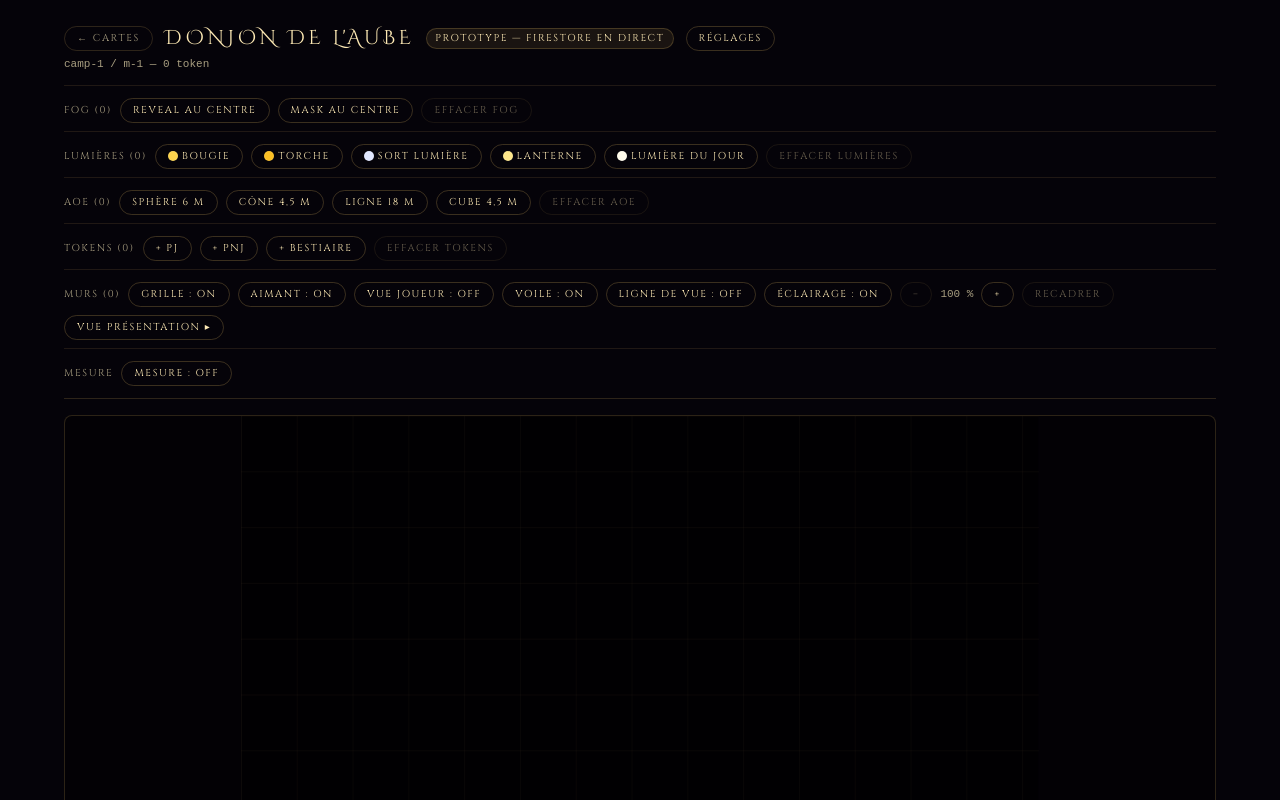
Test: MapLiveScreen › surfaces fog write error in writeError panel
Click the button with test id "map-live-add-fog-reveal".
click(195, 110)  # box [120,98,270,122]
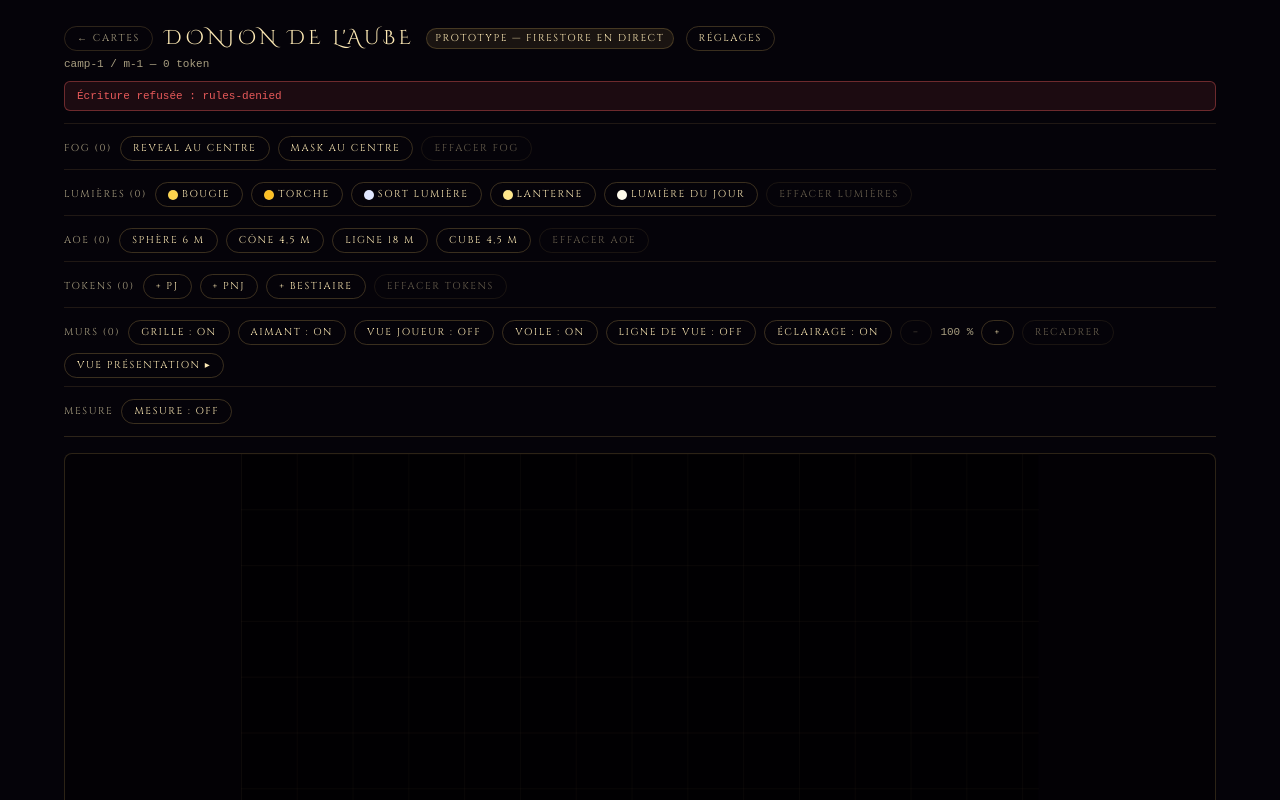
Result: the text with test id "map-live-write-error" shows "rules-denied" at [202,90,282,102]
